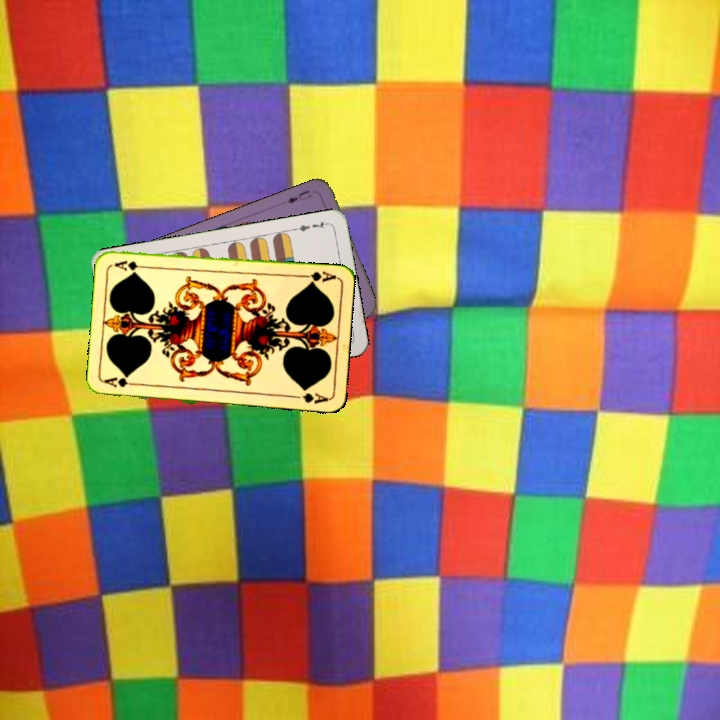E7: (291, 217, 331, 234)
EU: (283, 186, 314, 206)
GA: (297, 267, 338, 286), (101, 373, 142, 390)
